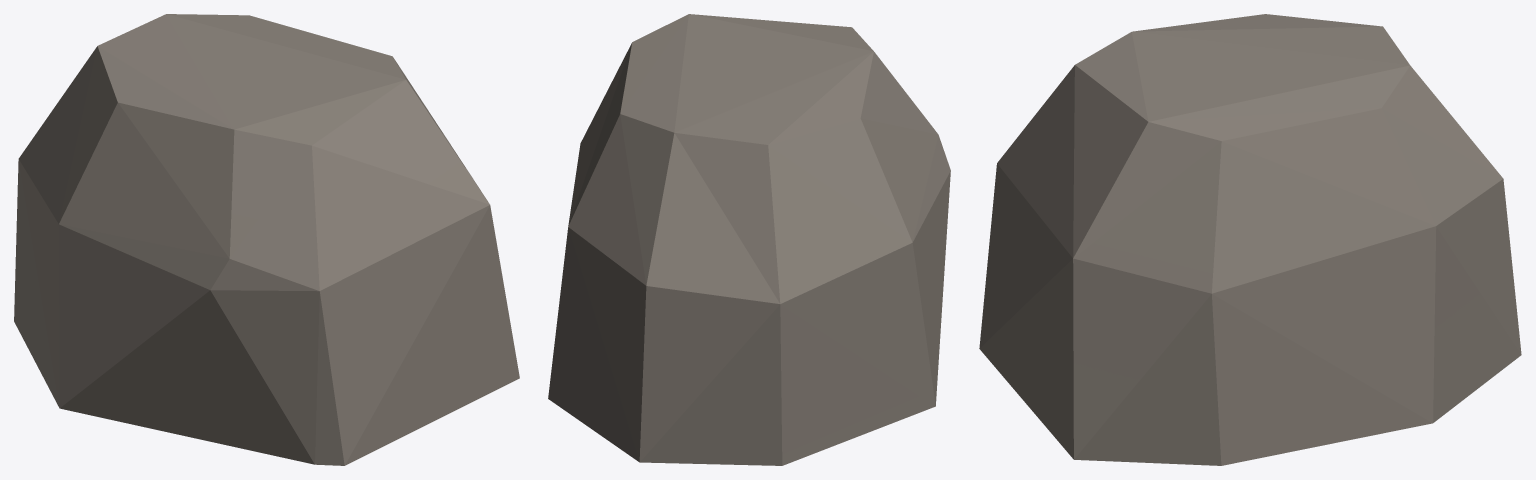
File: Env_Rock04.FBX
3 views of the same model, side by side, from view 1: azimuth 30°, elevation 25°; view 2: azimuth 150°, elevation 25°; view 3: azimuth 270°, elevation 25° (orthographic). The views are drawn at different scales.
Parts seen in each view (by area): view 1: Env_Rock04; view 2: Env_Rock04; view 3: Env_Rock04.
Boxes of the visible parts, box(x1,y1,x2,y2) form: Env_Rock04: box(14, 14, 519, 465); Env_Rock04: box(548, 14, 950, 465); Env_Rock04: box(979, 14, 1521, 465).
Size of the model in its own units: 71.95 by 51.52 by 84.61.
1 material, 1 textured.
